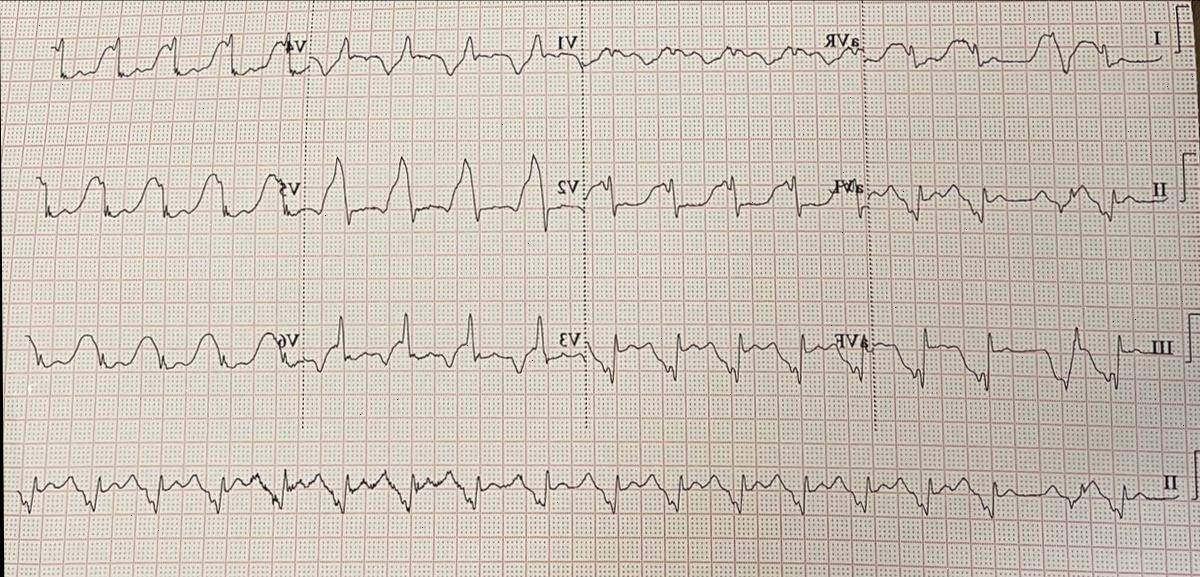Lead_I: (868, 14, 1173, 100)
Lead_II: (867, 161, 1173, 233)
Lead_III: (875, 310, 1183, 405)
Lead_II_ext: (12, 448, 1184, 540)
Lead_V1: (312, 11, 584, 114)
Lead_V2: (305, 138, 586, 248)
Lead_V3: (305, 298, 589, 388)
Lead_V4: (42, 9, 315, 116)
Lead_V5: (27, 145, 309, 240)
Lead_V6: (17, 300, 305, 389)
Lead_aVF: (584, 311, 874, 398)
Lead_aVL: (584, 150, 871, 247)
Lead_aVR: (582, 13, 866, 102)
